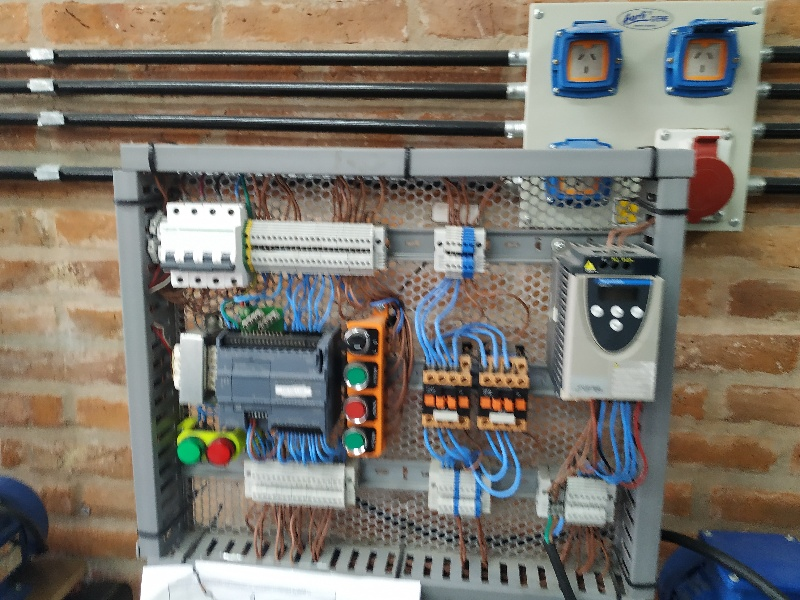Tablero 4: (129, 159, 663, 589)
